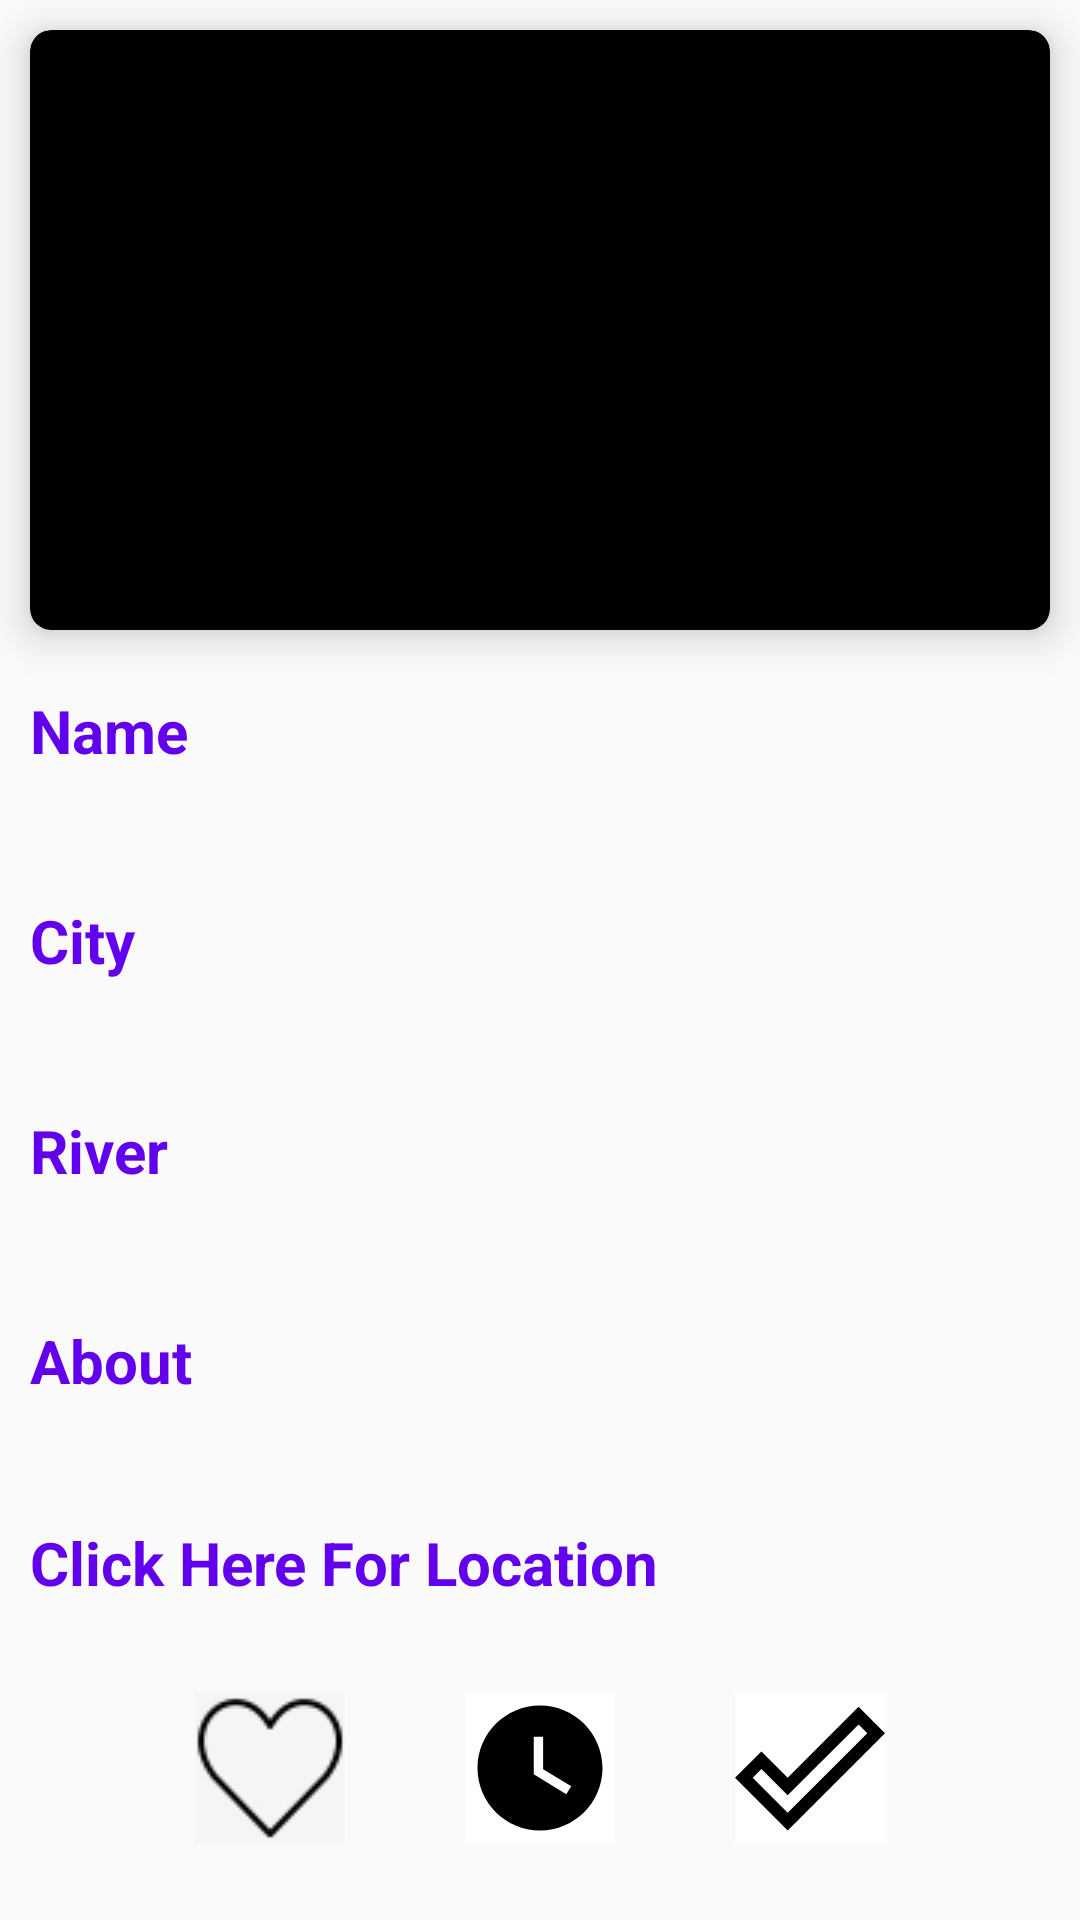

Where icons sit on this 1080w x 1920h app screen, as box(x1, y1, x2, y2):
done: box(735, 1707, 885, 1831)
favouritee: box(197, 1698, 343, 1838)
watch later: box(477, 1705, 603, 1831)
